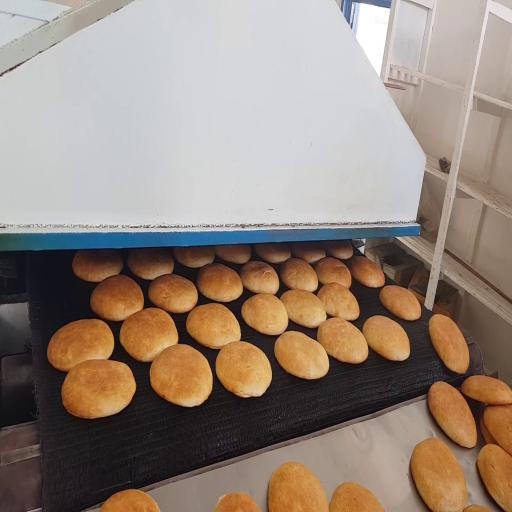bread: (62, 360, 136, 418), (411, 438, 467, 511), (150, 344, 212, 407), (47, 320, 114, 371), (428, 382, 477, 447), (120, 308, 178, 362), (216, 341, 271, 397), (268, 462, 329, 511), (275, 331, 329, 379), (186, 303, 240, 348), (429, 314, 469, 374), (91, 275, 143, 321), (317, 318, 368, 364), (478, 444, 511, 511), (363, 316, 410, 361), (242, 293, 288, 335), (148, 275, 198, 313), (197, 264, 242, 302), (281, 290, 326, 328), (72, 250, 123, 282), (330, 482, 384, 511), (318, 283, 359, 320), (461, 375, 511, 405), (128, 248, 174, 280), (380, 285, 421, 320), (483, 405, 511, 455), (280, 258, 318, 292), (240, 261, 279, 294), (100, 490, 160, 511), (315, 257, 351, 288), (351, 256, 385, 287), (214, 493, 260, 511), (174, 247, 214, 267), (255, 243, 291, 264), (215, 245, 251, 264), (292, 243, 325, 263), (324, 240, 353, 259), (480, 417, 496, 444), (464, 505, 490, 511)
